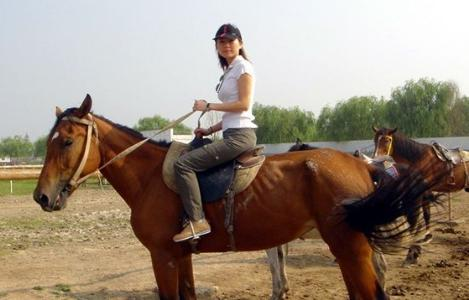person: (170, 23, 260, 245)
